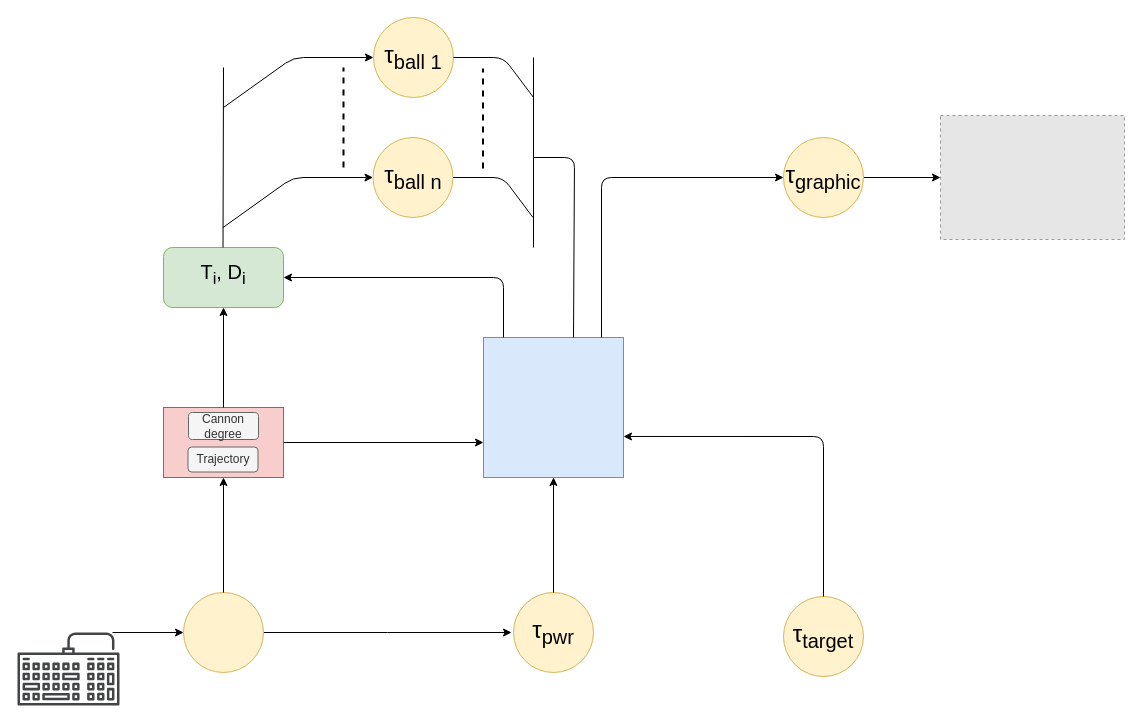
Image size: 1142x723. Some labels were removed from this diagram. Grey dashed boxes stand in for pictures. The shapes that lost their labels are listed below. From the top down, each one's centre as x and y in pixels, then its label:
the point at 553,407: SHARED MEMORY
the point at 223,632: τ u
